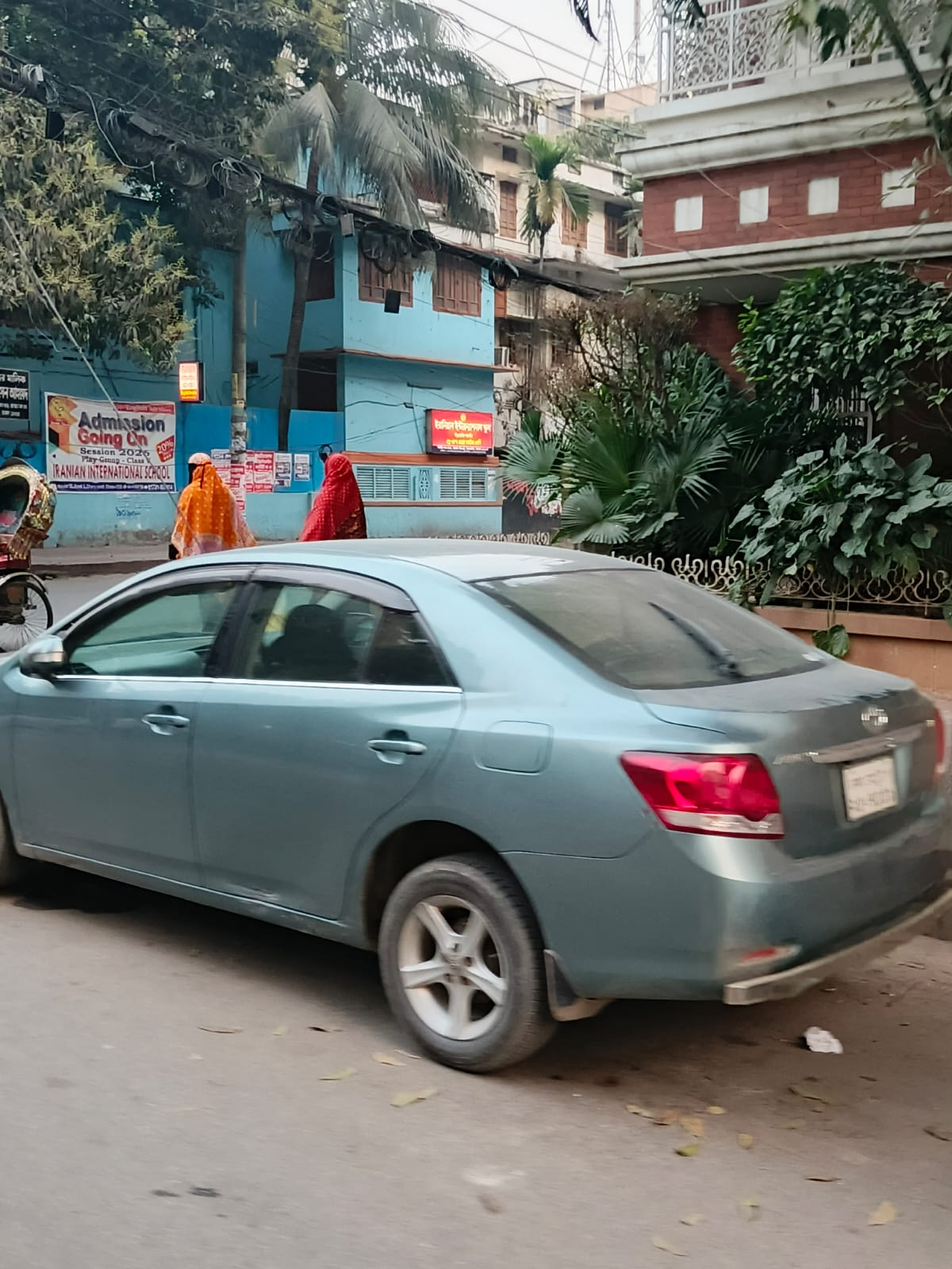auto-ricksaw: (0, 445, 80, 612)
private car: (0, 511, 948, 1130)
